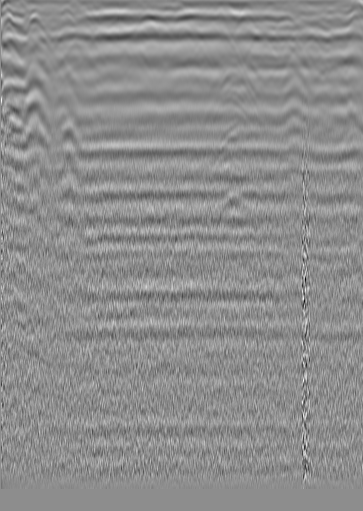가스: (218, 190, 248, 217)
상수: (307, 15, 327, 35)
오수: (23, 11, 47, 35)
우수: (138, 8, 158, 28)
